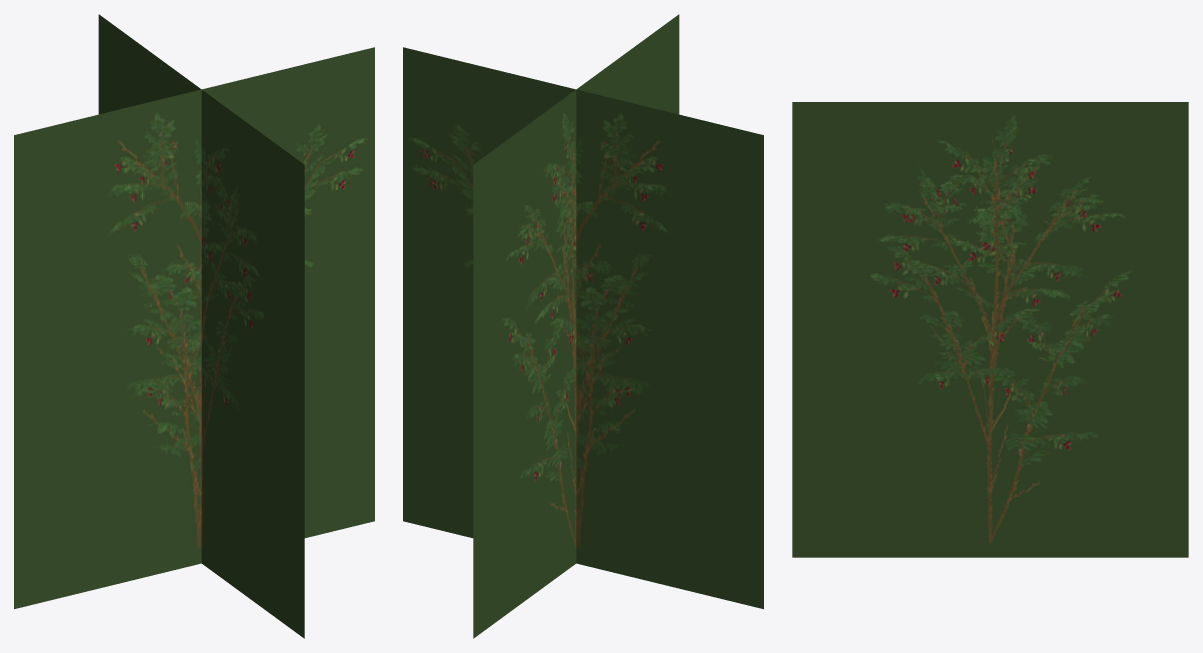
The model's file is Wildrose1_LOD3.fbx.
3 renders of one model, left to right at view 1: azimuth 30°, elevation 25°; view 2: azimuth 150°, elevation 25°; view 3: azimuth 270°, elevation 25°, orthographic. The views are drawn at different scales.
Parts seen in each view (by area): view 1: polySurface78; view 2: polySurface78; view 3: polySurface78.
Boxes of the visible parts, bbox=[...] form: polySurface78: bbox=[14, 14, 374, 638]; polySurface78: bbox=[403, 14, 763, 638]; polySurface78: bbox=[792, 102, 1188, 557].
Bounding box in the file's own units: 237 × 297 × 234.
